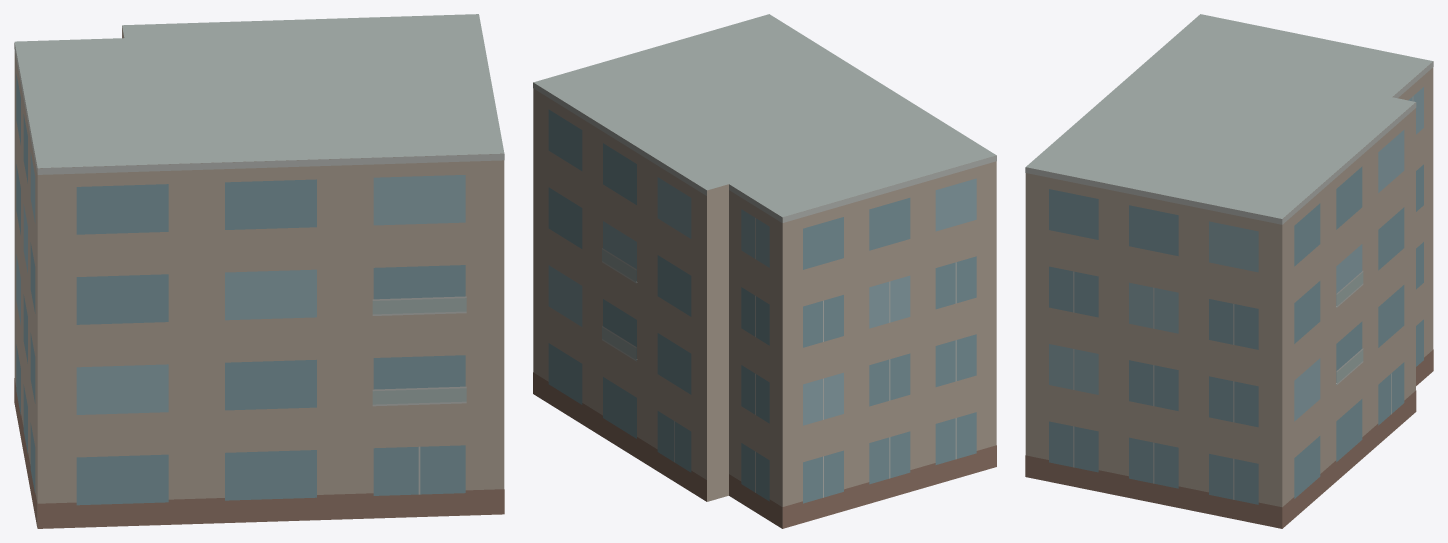
Rendered from survey-upis-32979081.glb.
3 renders of one model, left to right at view 1: azimuth 30°, elevation 25°; view 2: azimuth 150°, elevation 25°; view 3: azimuth 270°, elevation 25°, orthographic. The views are drawn at different scales.
Parts seen in each view (by area): view 1: survey-upis-32979081.tmp; view 2: survey-upis-32979081.tmp; view 3: survey-upis-32979081.tmp.
Part boxes in pixels (x1,y1,x2,y2): survey-upis-32979081.tmp: [14, 14, 504, 528]; survey-upis-32979081.tmp: [533, 14, 996, 528]; survey-upis-32979081.tmp: [1025, 14, 1433, 528].
Size of the model in its own units: 18.46 by 13 by 15.52.
